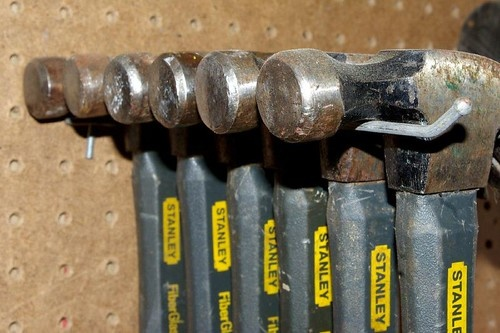hammer: (263, 46, 500, 330)
